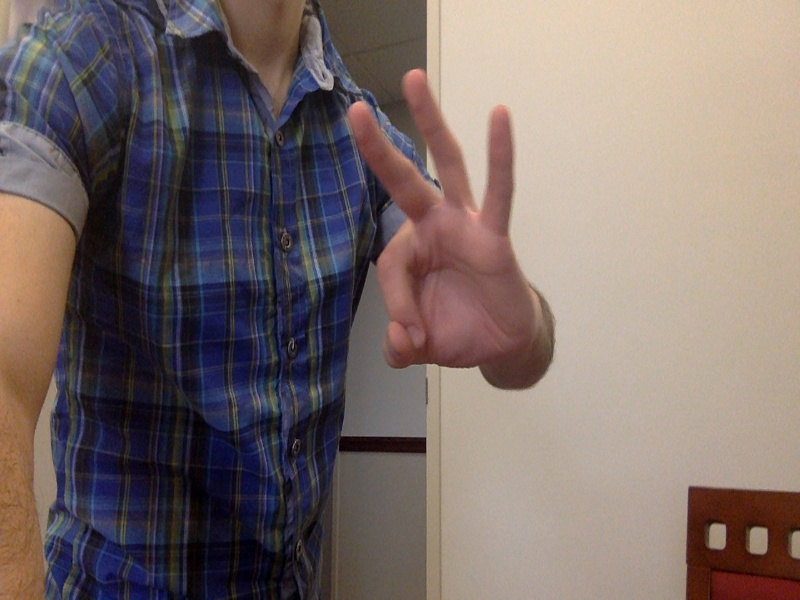3-hand: (350, 71, 536, 370)
